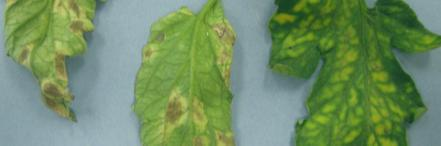Tomato mold leaf: (266, 0, 441, 146), (130, 2, 251, 146), (0, 0, 112, 115)
